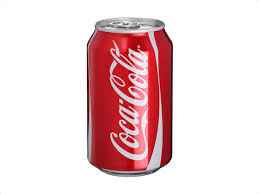coke: (107, 38, 153, 164)
